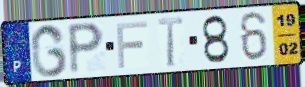6: (239, 10, 270, 64)
8: (201, 14, 231, 65)
F: (114, 19, 149, 70)
G: (29, 22, 69, 79)
P: (66, 21, 106, 76)
T: (156, 16, 186, 70)
